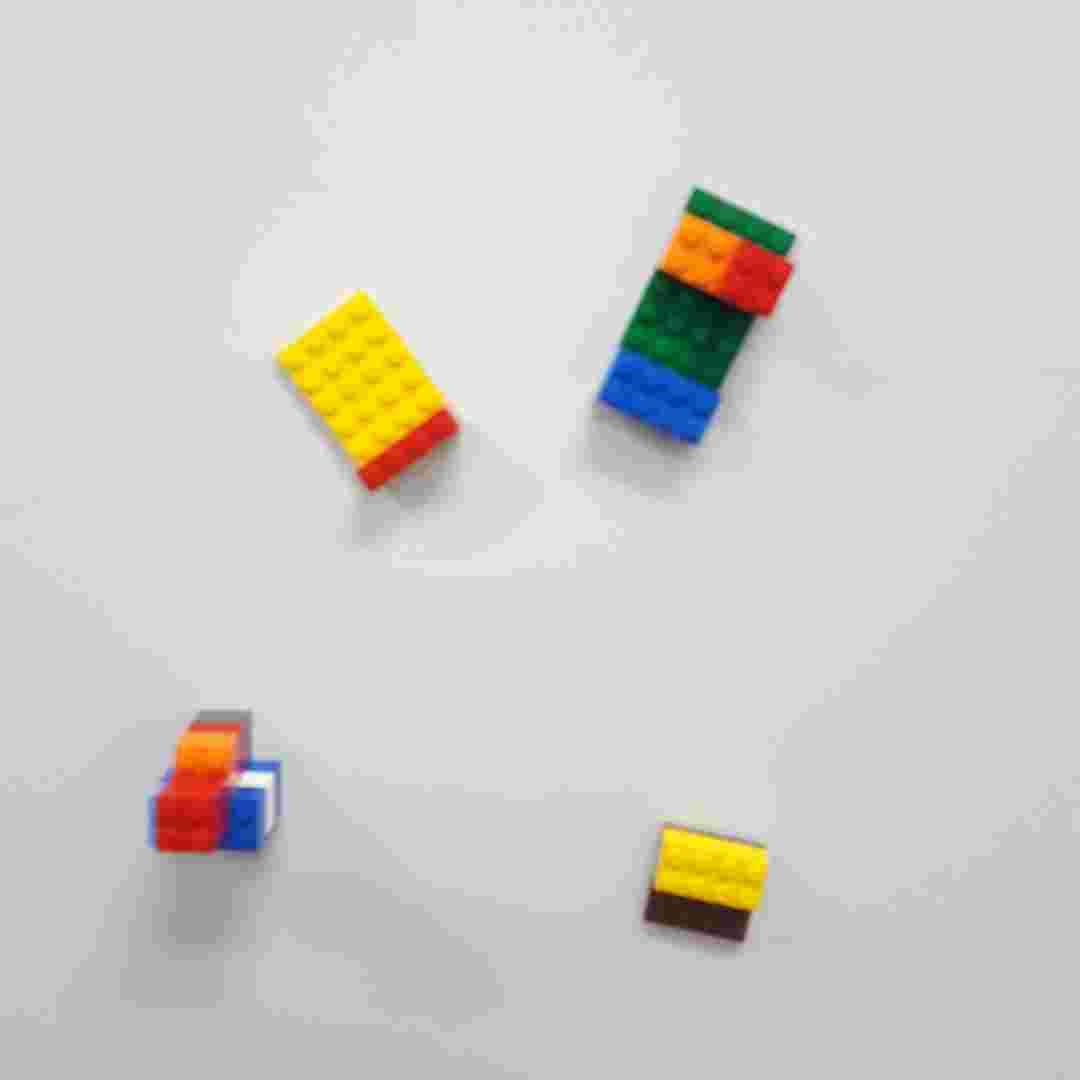LEGO: (598, 187, 796, 446), (272, 290, 462, 492), (146, 705, 286, 856), (645, 824, 768, 944)
